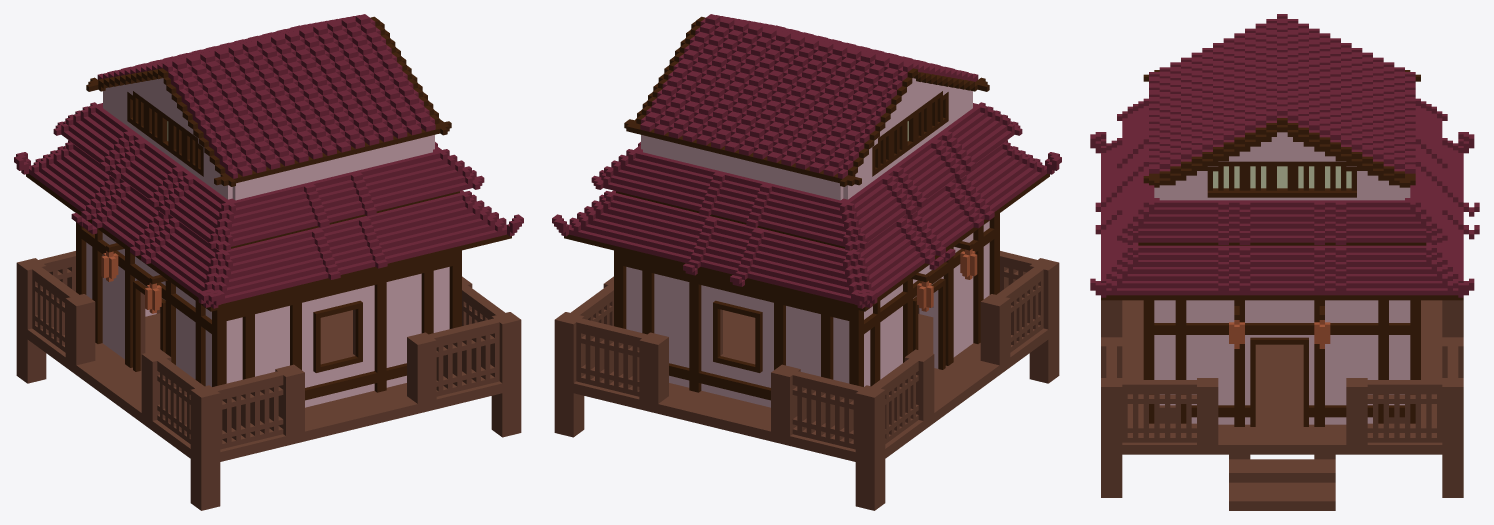
Rendered from Jap mod-1.obj.
The picture shows the model from 3 angles, left to right: view 1: azimuth 30°, elevation 25°; view 2: azimuth 150°, elevation 25°; view 3: azimuth 270°, elevation 25°; orthographic projection.
Bounding box in the file's own units: 7.9 × 7.4 × 7.3.
1 material, 1 textured.
